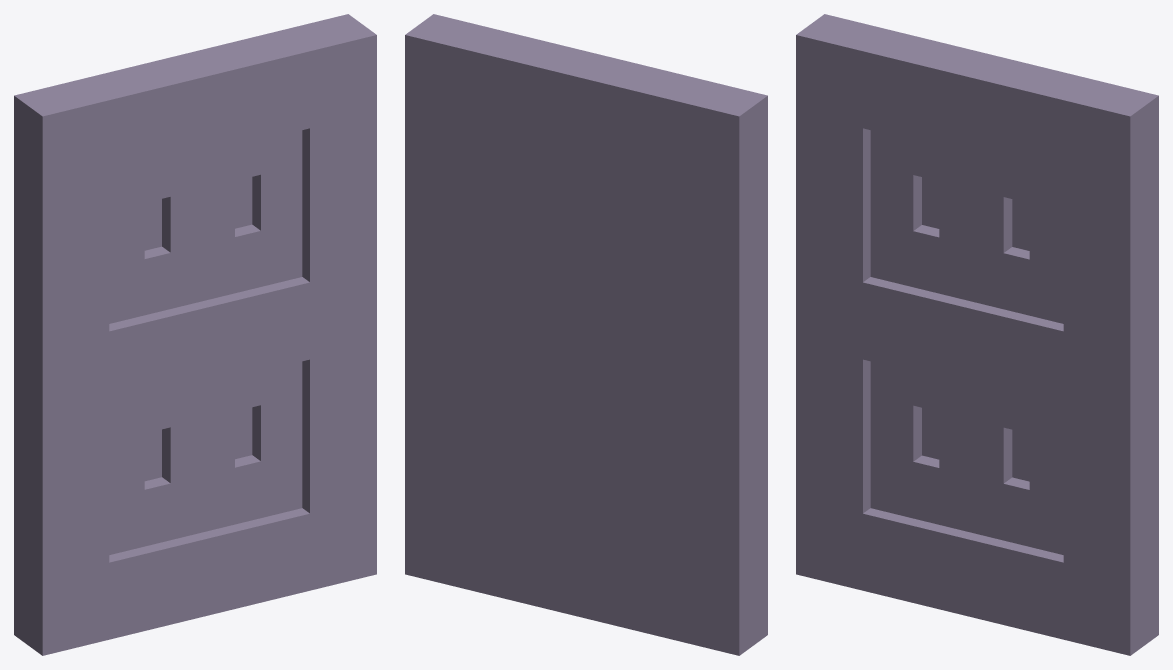
Rendered from OutletModel.fbx.
3 renders of one model, left to right at view 1: azimuth 30°, elevation 25°; view 2: azimuth 150°, elevation 25°; view 3: azimuth 330°, elevation 25°, orthographic.
Parts seen in each view (by area): view 1: pCube6; view 2: pCube6; view 3: pCube6.
Part boxes in pixels (x1,y1,x2,y2): pCube6: [14, 14, 376, 655]; pCube6: [405, 14, 767, 655]; pCube6: [796, 14, 1158, 655].
Size of the model in its own units: 0.1661 by 0.2561 by 0.0246.
